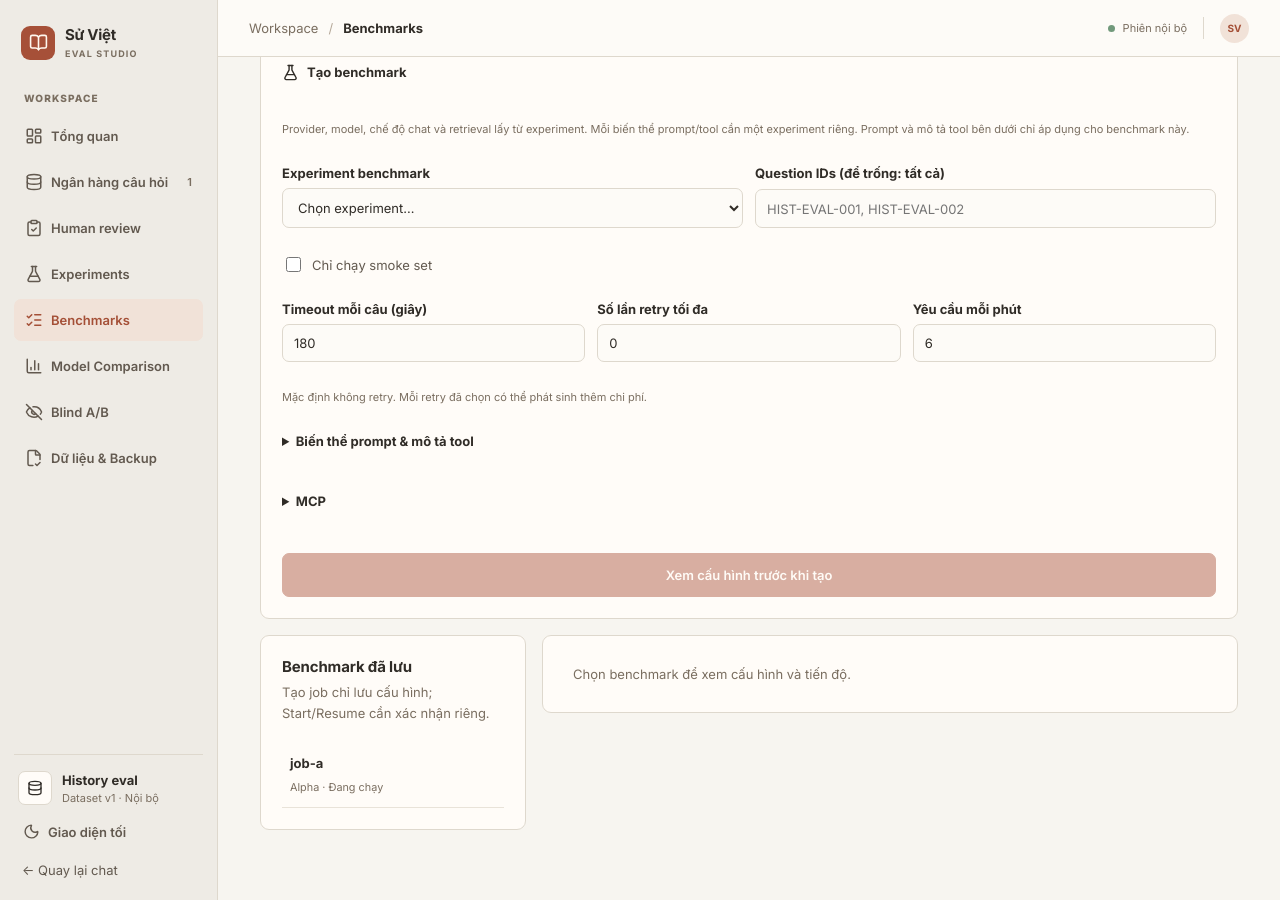
active benchmark polling stops at terminal state and on unmount
(page scrolled)
Click the button "job-a Alpha · Đang chạy" at {"x": 393, "y": 775}, box [282,742,504,808]
Wait 10000 ms
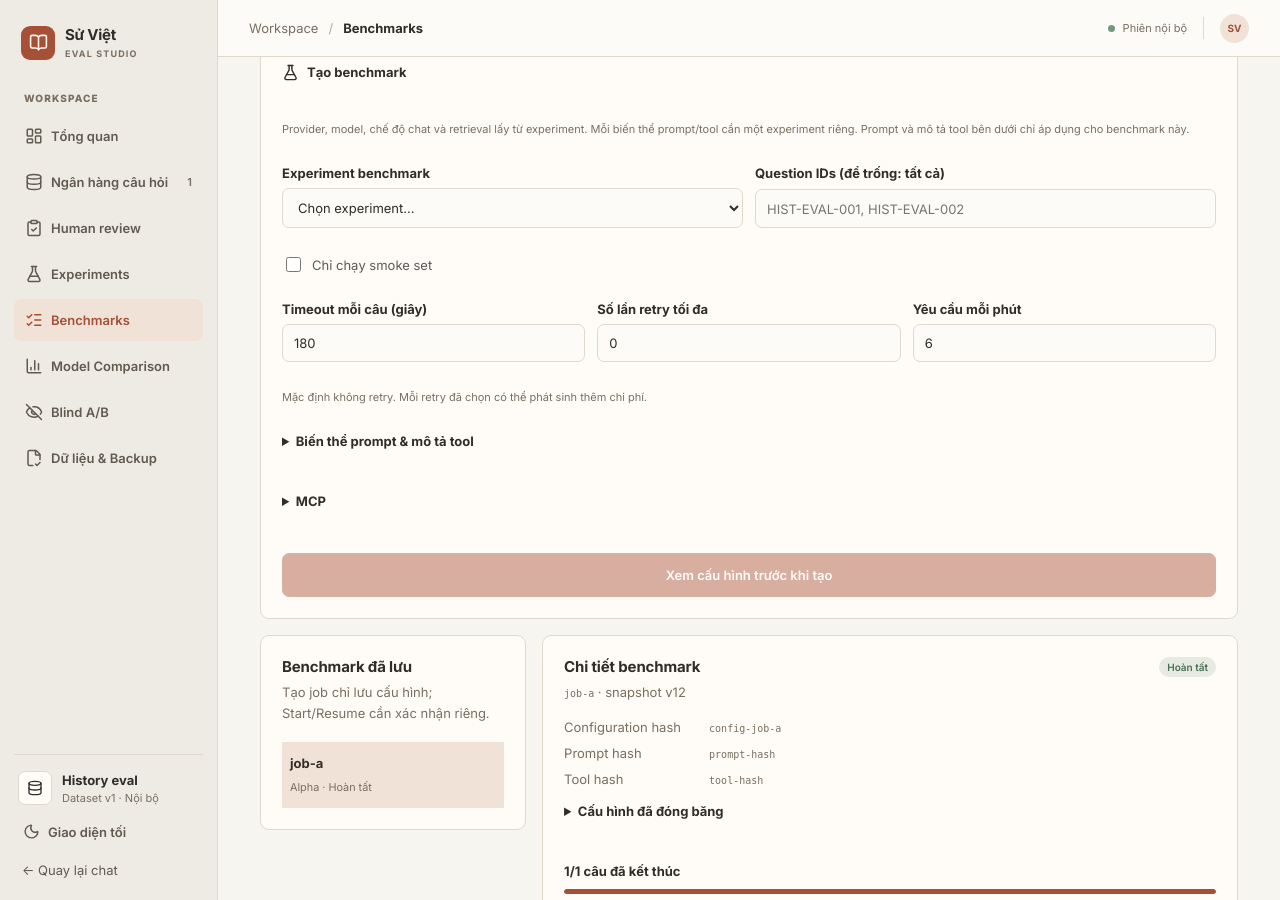
Result: the text "config-job-a" is shown at [709,723,781,734]
Result: the text "Hoàn tất" is shown at [1159,657,1216,677]
